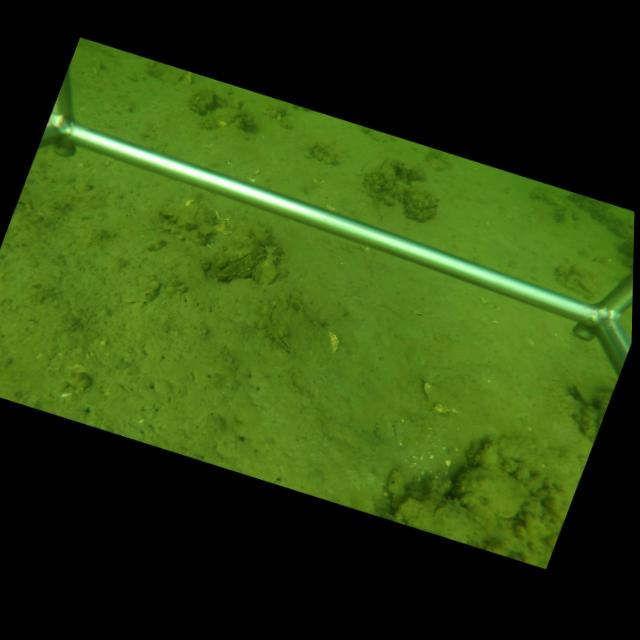Oyster-Closed: (265, 295, 332, 364), (208, 243, 265, 285), (250, 255, 280, 286)
Oyster-Indeterminate: (458, 465, 538, 521)
